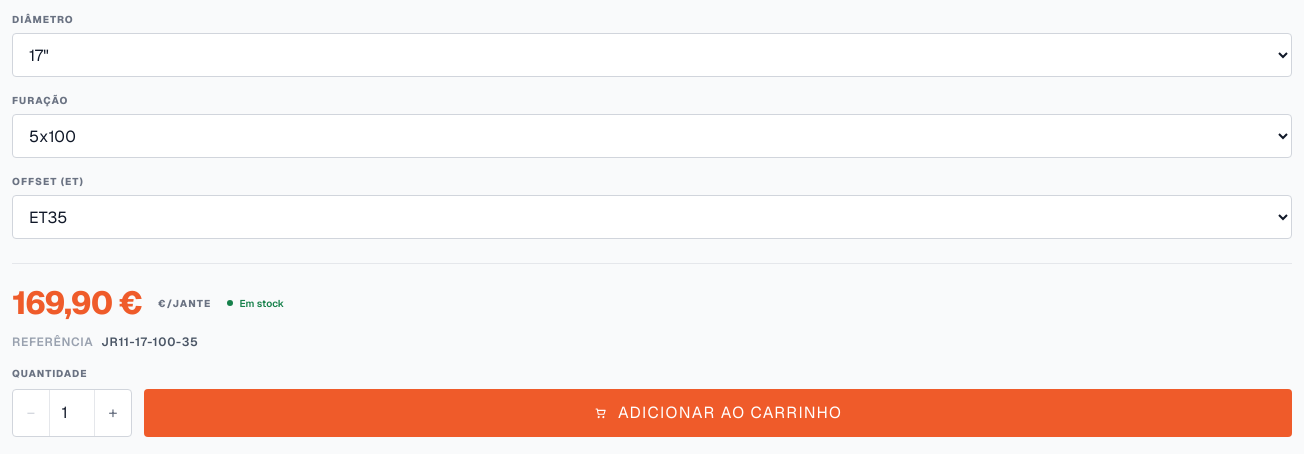
Scenario: ProductPurchasePanel › só lista valores compatíveis com a seleção parcial e continua reversível
Expected: the text "JR11-17-100-35" is shown, [101,334,198,350]
Select "19\"" in the dropdown labelled "Diâmetro" at (652, 55), box [12,33,1292,77]
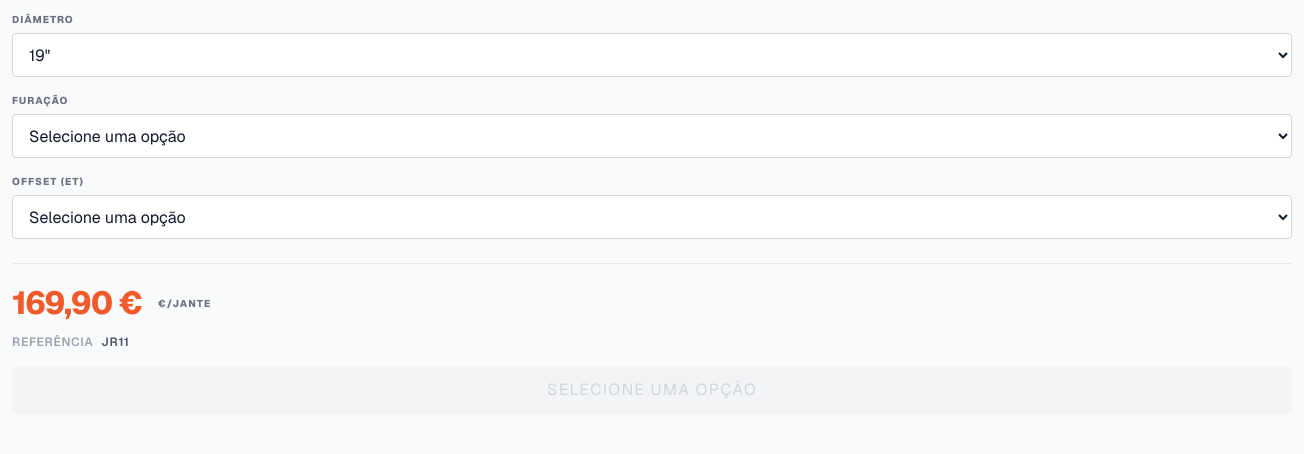
Now the dropdown labelled "Furação" shows "Selecione uma opção"
Now the dropdown labelled "Offset (ET)" shows "Selecione uma opção", box [12,195,1292,239]
Now the button "Selecione uma opção" is disabled, box [12,366,1292,414]
Select "5x120" in the dropdown labelled "Furação" at (652, 136), box [12,114,1292,158]
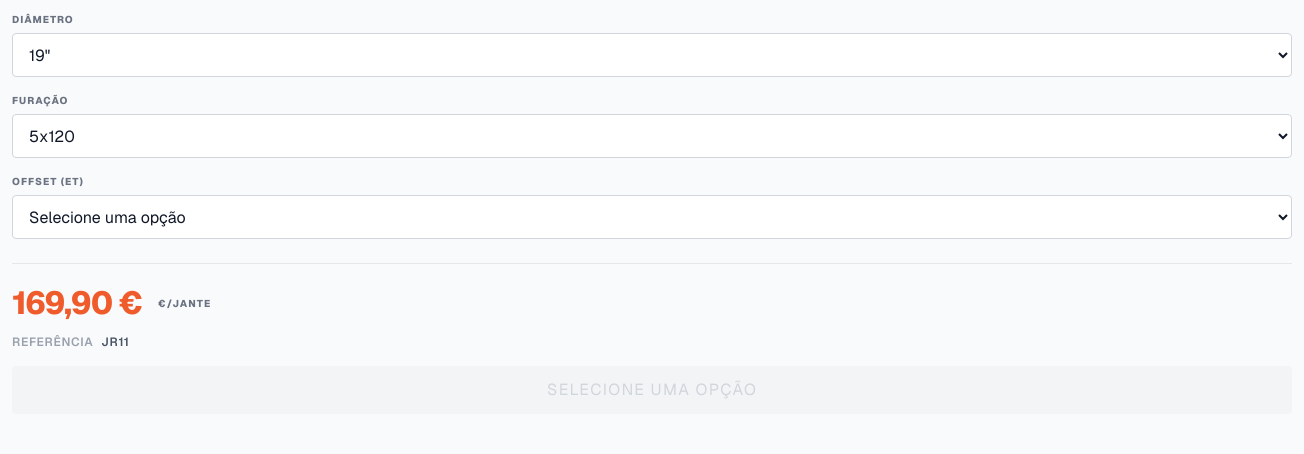
Select "ET45" in the dropdown labelled "Offset (ET)" at (652, 217), box [12,195,1292,239]
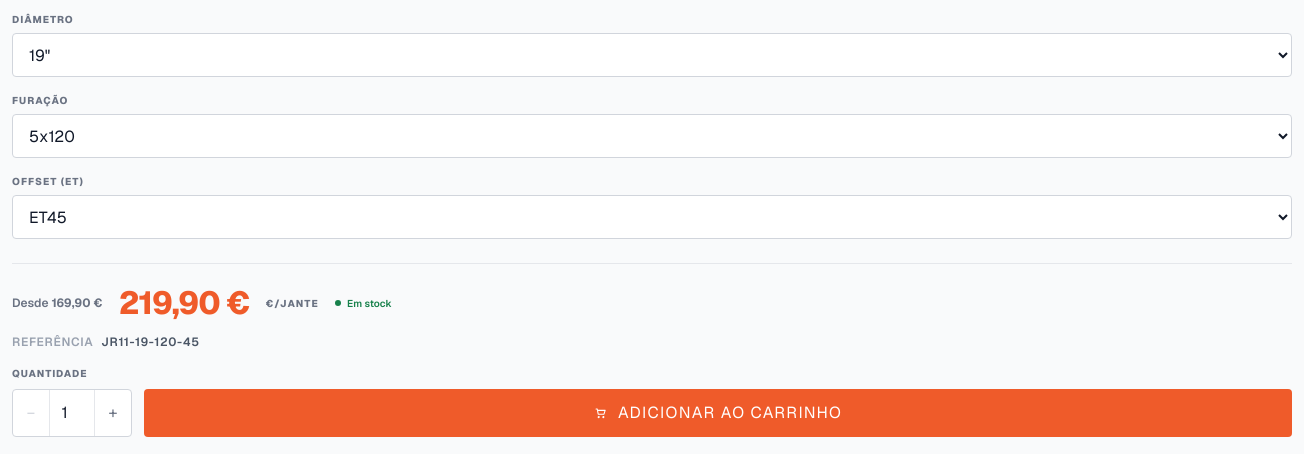
Now the text "219,90 €" is shown, box [118,284,249,322]
Now the text "JR11-19-120-45" is shown, box [101,334,200,350]
Now the button "Adicionar ao carrinho" is enabled, box [144,389,1292,437]
Select "17\"" in the dropdown labelled "Diâmetro" at (652, 55), box [12,33,1292,77]
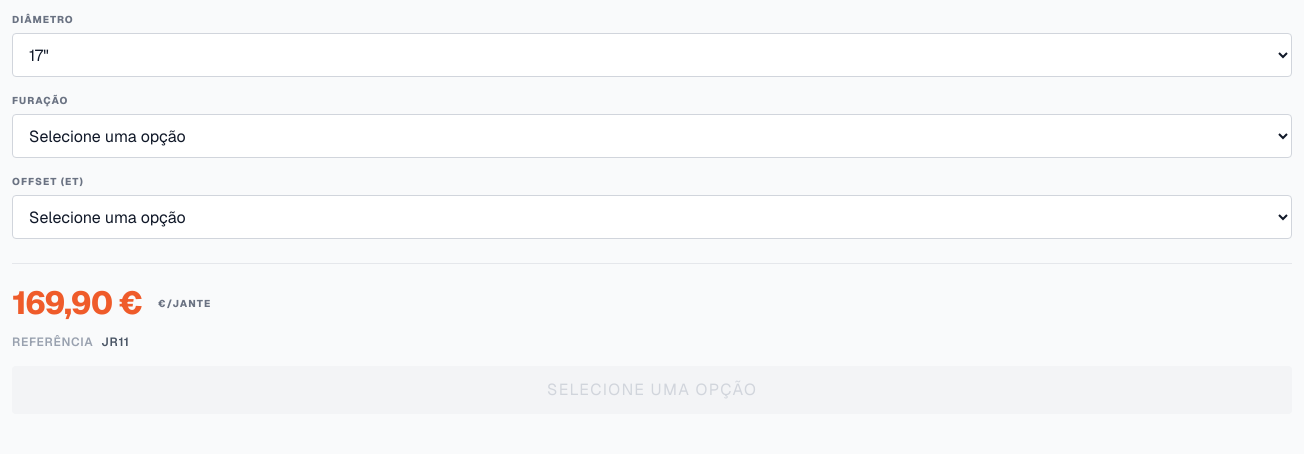
Select "5x100" in the dropdown labelled "Furação" at (652, 136), box [12,114,1292,158]
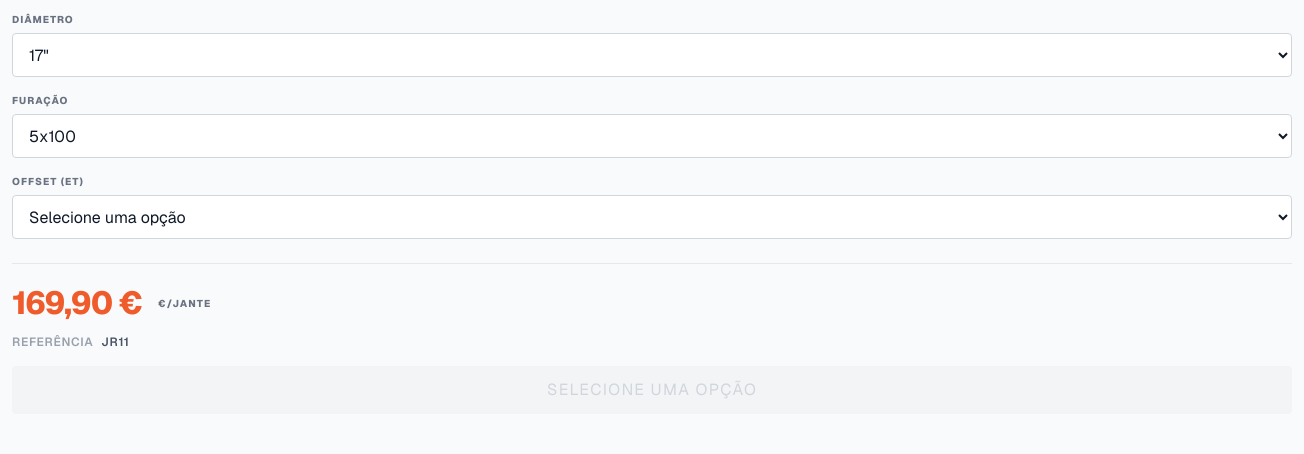
Select "ET35" in the dropdown labelled "Offset (ET)" at (652, 217), box [12,195,1292,239]
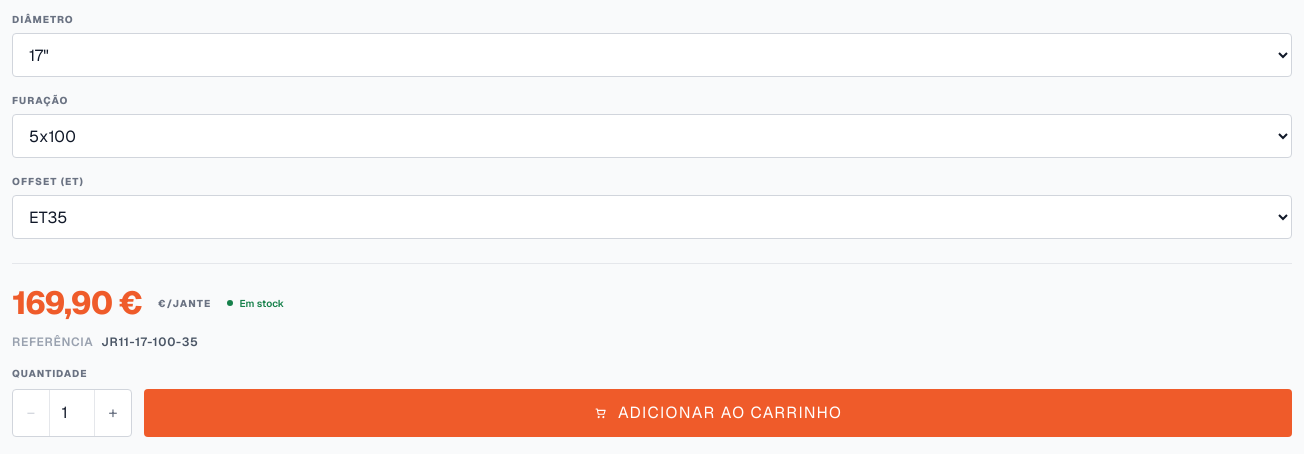
Now the text "JR11-17-100-35" is shown, box [101,334,198,350]
